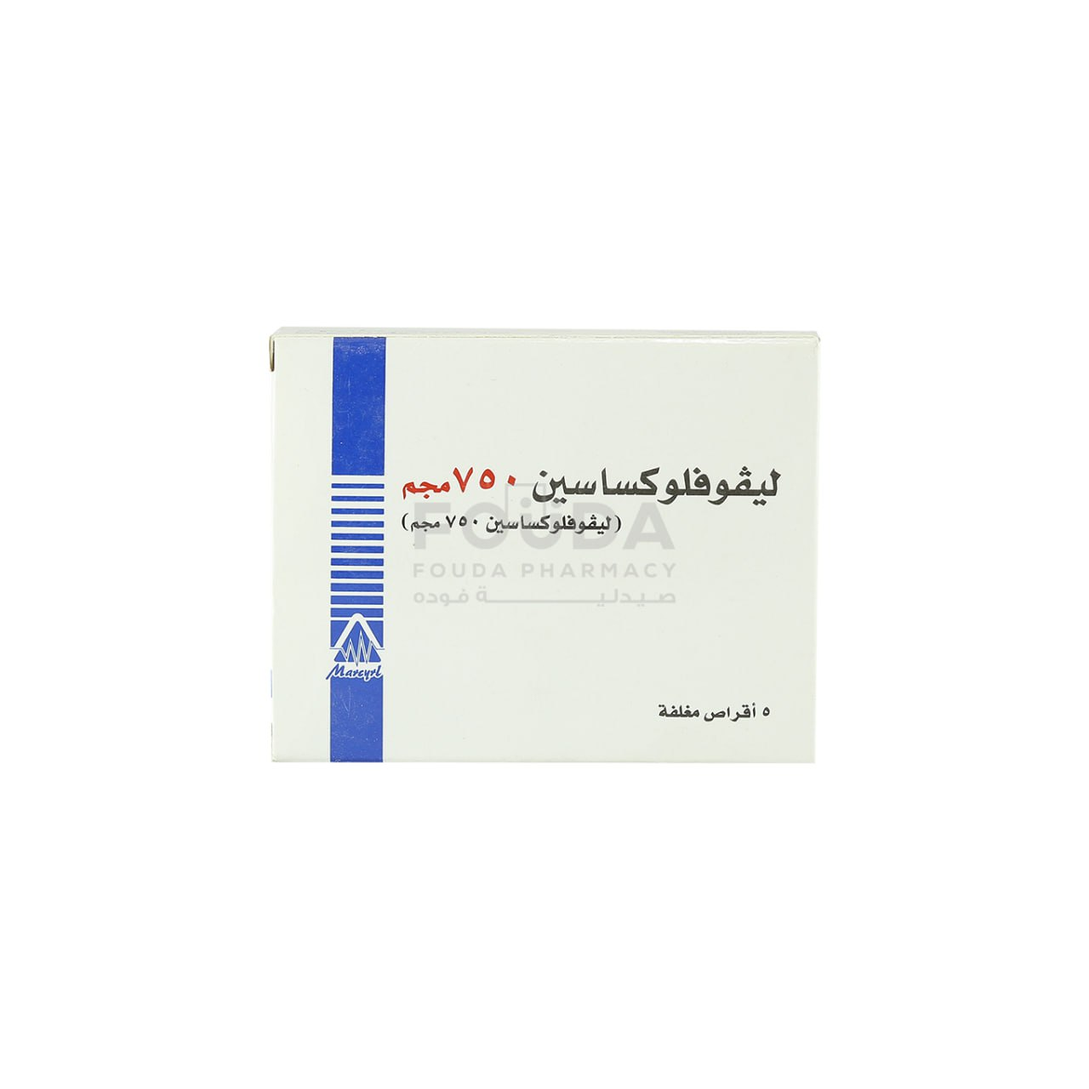Medicine: (252, 312, 834, 783)
